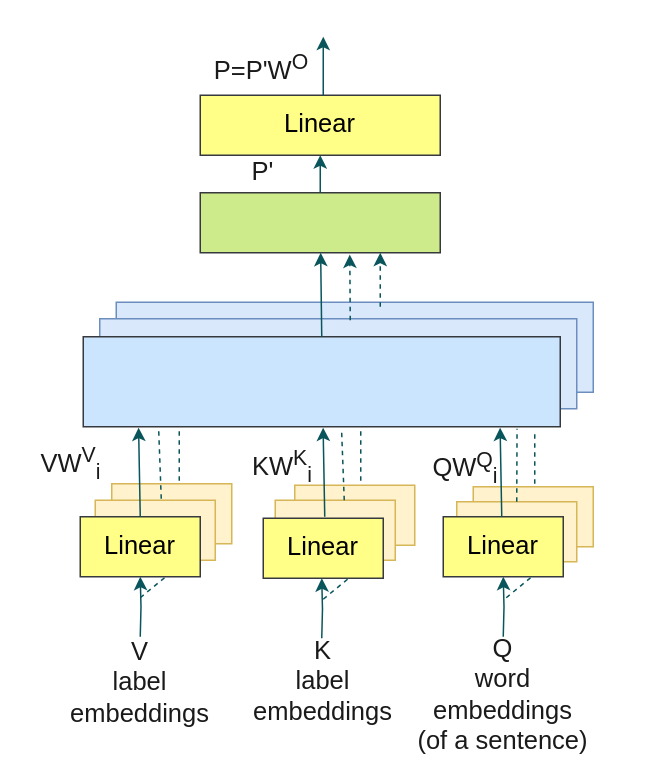
Image size: 648x782. Some labels were removed from this diagram. Here are the shapes that lost their labels. From the top down, the box of each, then its label:
(199, 191, 440, 253): Concat
(82, 335, 560, 427): Scaled dot-product attention
